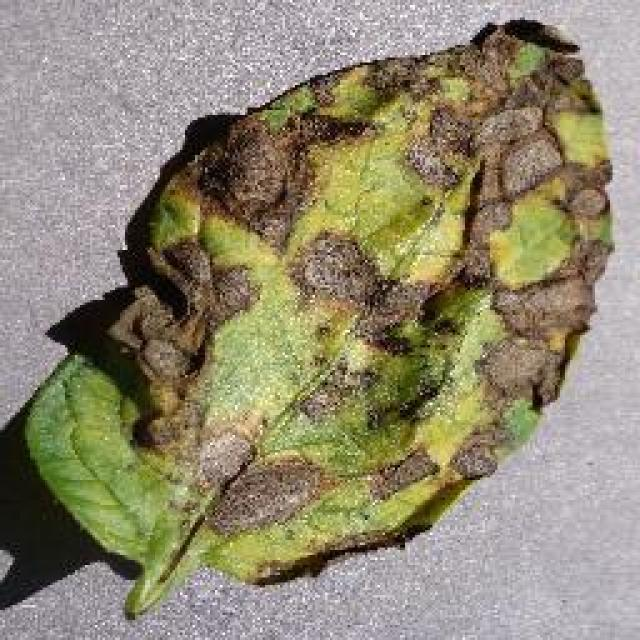early_blight: (18, 15, 620, 620)
